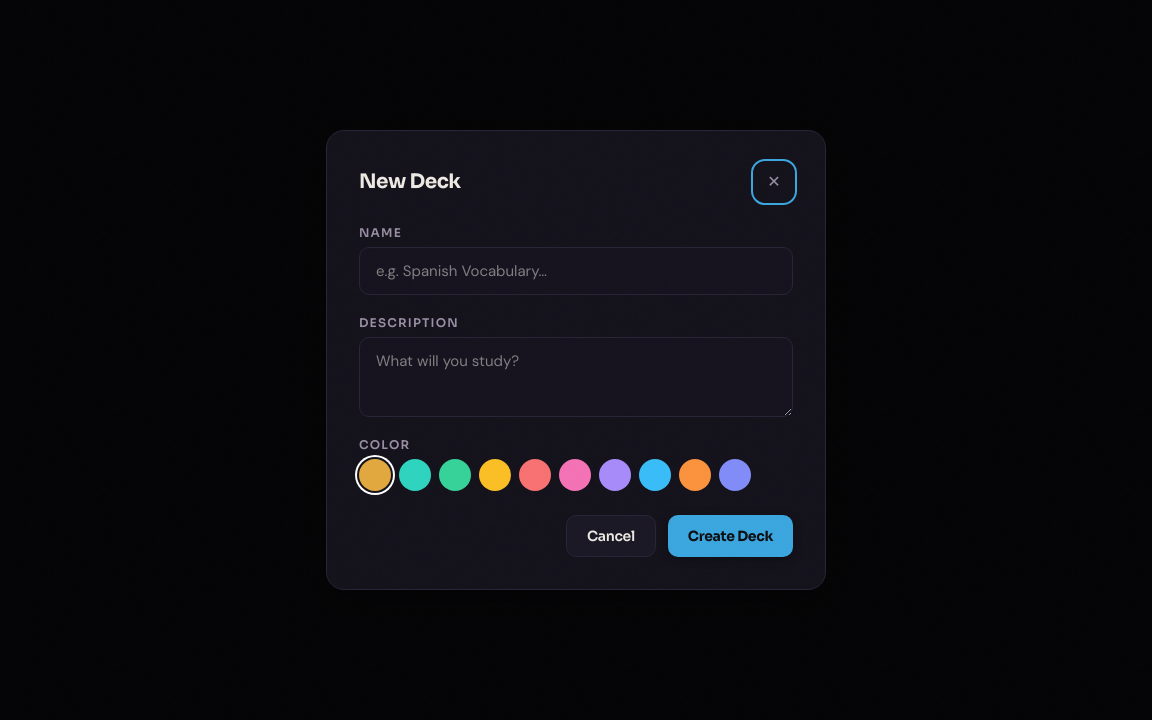
Scenario: DeckModal › shows validation error when name is empty
The width and height of the screenshot is (1152, 720).
Click the button "Create Deck": (730, 536) [668, 515, 793, 557]
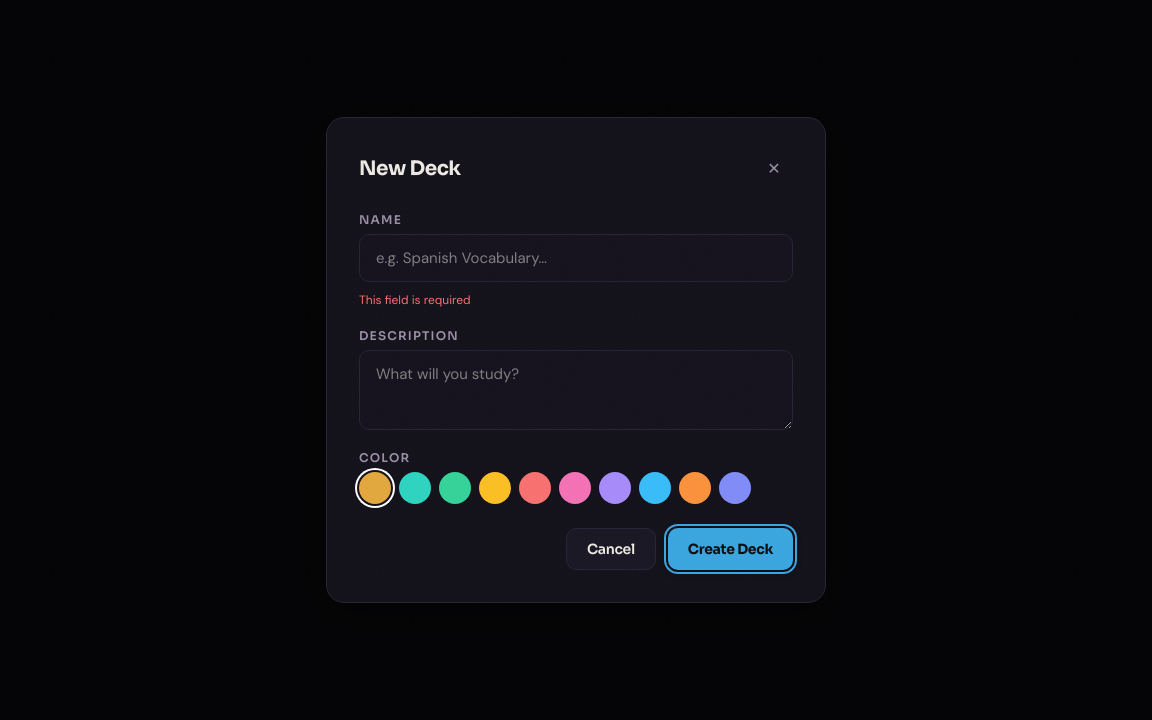
Now the message reads "This field is required", box [359, 292, 471, 308]
